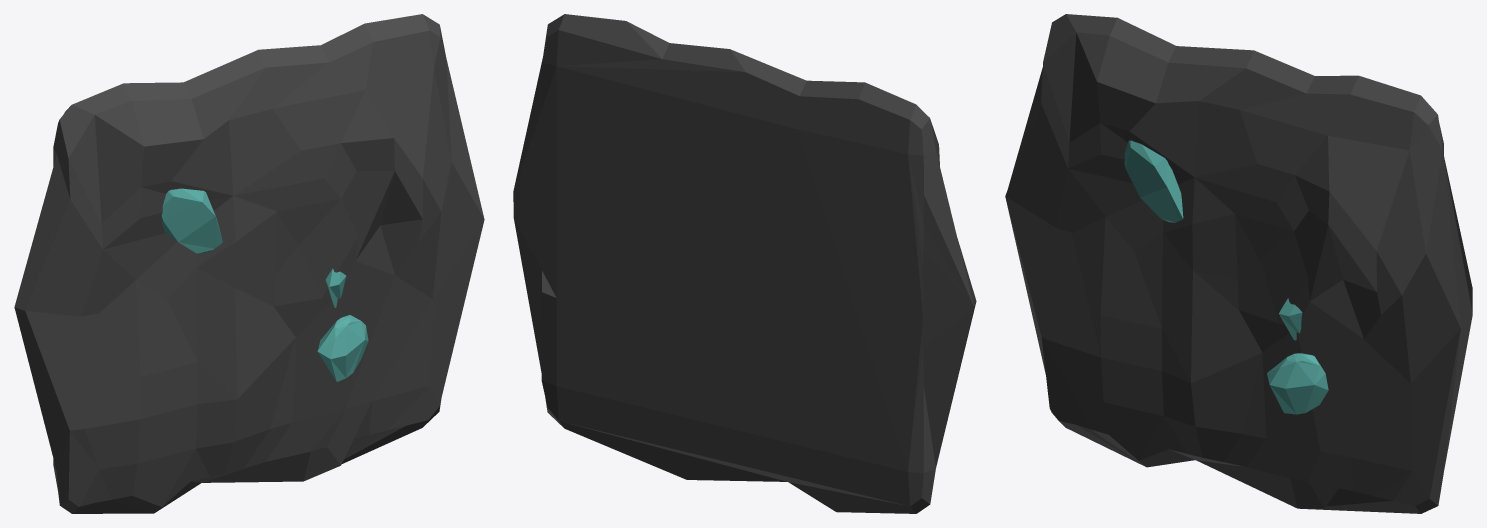
File: Wall2.fbx
3 views of the same model, side by side, from view 1: azimuth 30°, elevation 25°; view 2: azimuth 150°, elevation 25°; view 3: azimuth 330°, elevation 25° (orthographic).
Parts seen in each view (by area): view 1: Wall2, pSphere2, pSphere1; view 2: Wall2; view 3: Wall2, pSphere2, pSphere1, pSphere3.
Boxes of the visible parts, x1=… form: Wall2: x1=14, y1=14, x2=484, y2=513; pSphere2: x1=161, y1=188, x2=222, y2=253; pSphere1: x1=317, y1=315, x2=368, y2=381; Wall2: x1=513, y1=14, x2=976, y2=513; Wall2: x1=1005, y1=14, x2=1472, y2=513; pSphere2: x1=1124, y1=140, x2=1183, y2=222; pSphere1: x1=1267, y1=353, x2=1328, y2=414; pSphere3: x1=1279, y1=298, x2=1302, y2=340.
Size of the model in its own units: 31.23 by 28.8 by 4.71.
